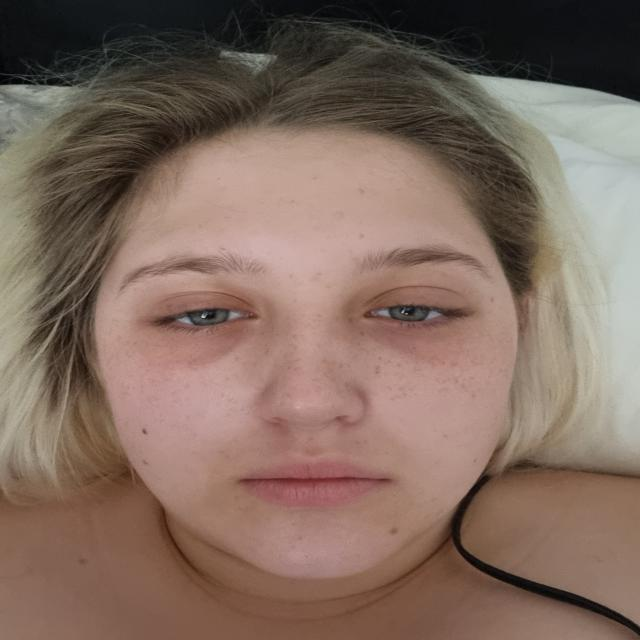Eyebags: (137, 316, 259, 367), (360, 314, 474, 361)
